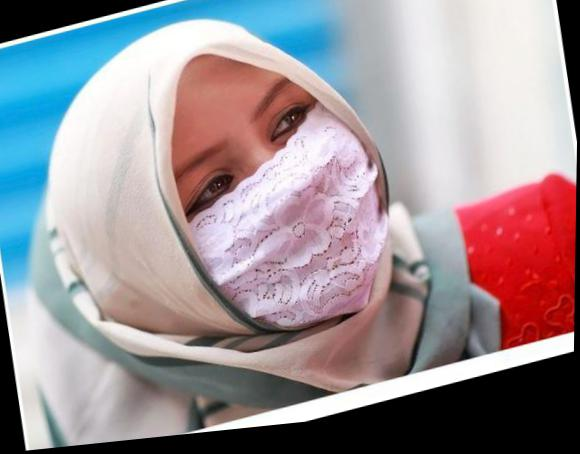WRONG: (150, 53, 400, 369)
